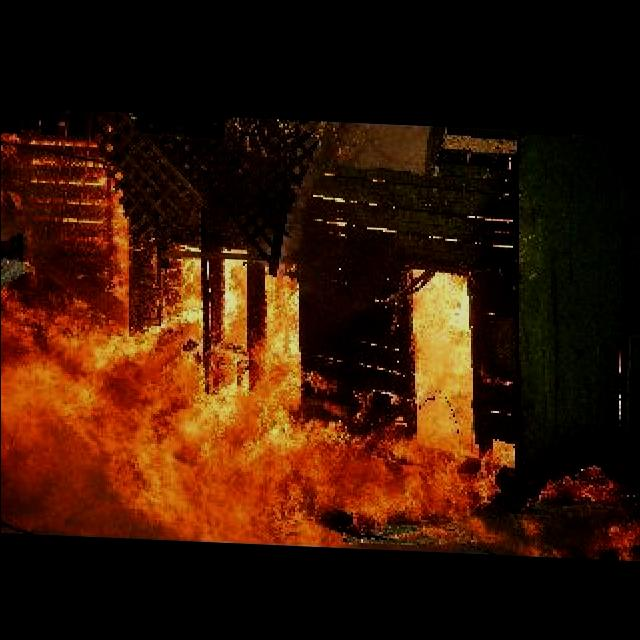helmet: (6, 128, 636, 556)
